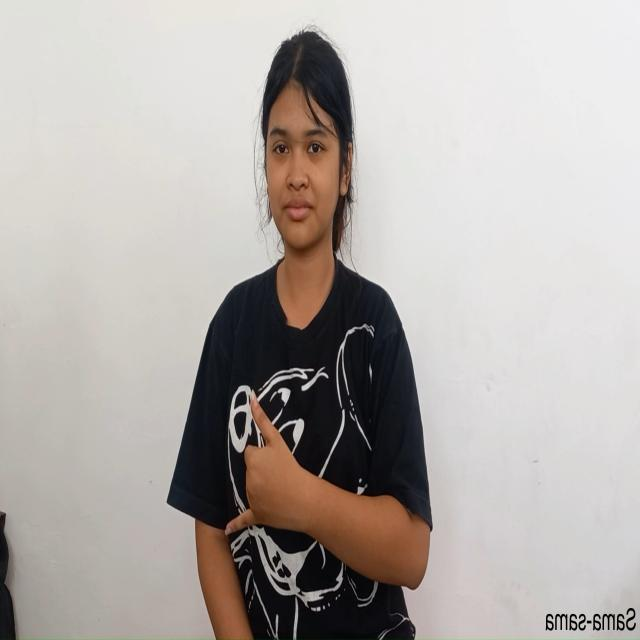Sama-sama -BISINDO-: (221, 376, 308, 548)
